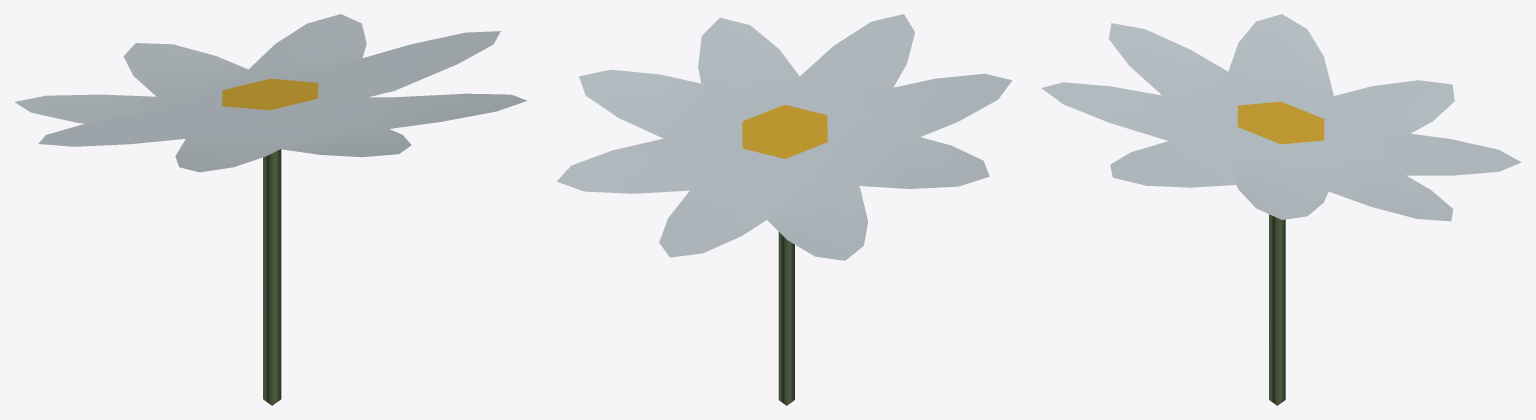
The model's file is P_Fjallsippa_03_LD.fbx.
3 renders of one model, left to right at view 1: azimuth 30°, elevation 25°; view 2: azimuth 150°, elevation 25°; view 3: azimuth 270°, elevation 25°, orthographic. The views are drawn at different scales.
Parts seen in each view (by area): view 1: P_Fjallsippa_03; view 2: P_Fjallsippa_03; view 3: P_Fjallsippa_03.
Boxes of the visible parts, x1,y1,x2,y2 form: P_Fjallsippa_03: (15,14,527,405); P_Fjallsippa_03: (557,14,1011,405); P_Fjallsippa_03: (1041,14,1521,405).
Size of the model in its own units: 32.1 by 22.72 by 31.64.
Materials: 1 (1 with a texture image).
